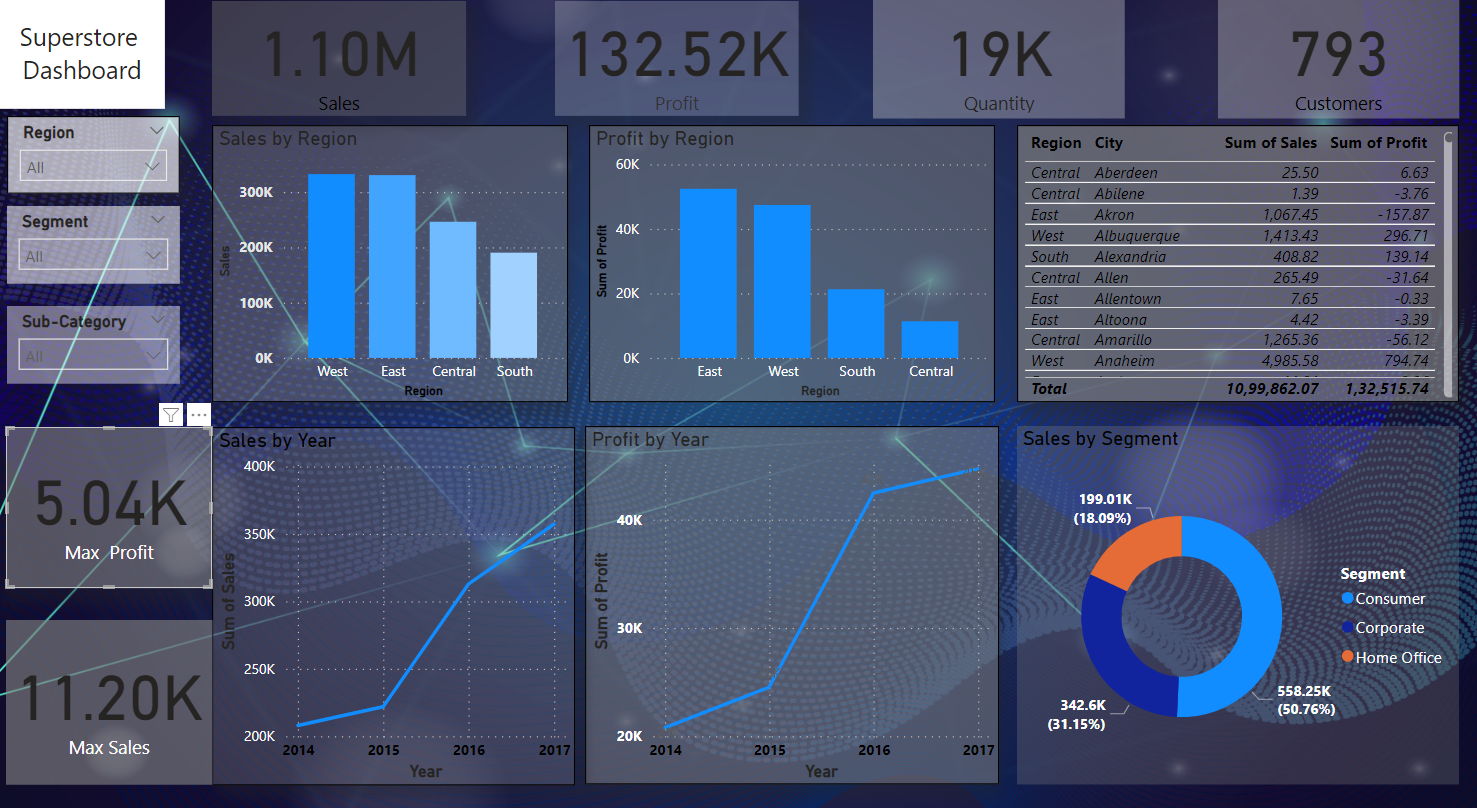

What the dashboard file says about the page in this screenshot:
{"tool":"powerbi","page":{"name":"Page 1","canvas":[1280,720],"ordinal":0},"visuals":[{"type":"clusteredColumnChart","title":"Sales by Region","fields":{"Category":["Sample - Superstore.Region"],"Y":["Sum(Sample - Superstore.Sales)"]},"box":[183.6,112.9,306.9,238.8],"z":0},{"type":"card","fields":{"Values":["Sum(Sample - Superstore.Sales)"]},"box":[183.6,6,218.9,99.1],"z":1000},{"type":"card","fields":{"Values":["Sum(Sample - Superstore.Profit)"]},"box":[479.2,6,210.3,99.1],"z":2000},{"type":"textbox","box":[0,0,143.1,99.1],"z":3000},{"type":"slicer","fields":{"Values":["Sample - Superstore.Region"]},"box":[6.9,105.2,149.1,67.2],"z":4000},{"type":"slicer","fields":{"Values":["Sample - Superstore.Segment"]},"box":[6.9,182.7,149.1,67.2],"z":5000},{"type":"slicer","fields":{"Values":["Sample - Superstore.Sub-Category"]},"box":[6.9,268.9,149.1,67.2],"z":6000},{"type":"lineChart","title":"Profit by Year","fields":{"Y":["Sum(Sample - Superstore.Profit)"],"Category":["Sample - Superstore.Order Date.Variation.Date Hierarchy.Year","Sample - Superstore.Order Date.Variation.Date Hierarchy.Quarter","Sample - Superstore.Order Date.Variation.Date Hierarchy.Month","Sample - Superstore.Order Date.Variation.Date Hierarchy.Day"]},"box":[505.1,372.4,356.8,309.4],"z":7000},{"type":"card","fields":{"Values":["Sum(Sample - Superstore.Quantity)"]},"box":[753.3,4.3,217.2,102.6],"z":8000},{"type":"tableEx","fields":{"Values":["Sample - Superstore.Region","Sample - Superstore.City","Sum(Sample - Superstore.Sales)","Sum(Sample - Superstore.Profit)"]},"box":[877.5,112.9,381,238.8],"z":9000},{"type":"clusteredColumnChart","title":"Profit by Region","fields":{"Category":["Sample - Superstore.Region"],"Y":["Sum(Sample - Superstore.Profit)"]},"box":[508.6,112.9,350,238.8],"z":10000},{"type":"donutChart","title":" Sales by Segment","fields":{"Y":["Sum(Sample - Superstore.Sales)"],"Category":["Sample - Superstore.Segment"]},"box":[877.5,372.4,381,309.4],"z":11000},{"type":"lineChart","title":"Sales by Year","fields":{"Category":["Sample - Superstore.Order Date.Variation.Date Hierarchy.Year","Sample - Superstore.Order Date.Variation.Date Hierarchy.Quarter","Sample - Superstore.Order Date.Variation.Date Hierarchy.Month","Sample - Superstore.Order Date.Variation.Date Hierarchy.Day"],"Y":["Sum(Sample - Superstore.Sales)"]},"box":[183.6,373.2,312.9,308.6],"z":12000},{"type":"card","fields":{"Values":["Count(Sample - Superstore.Customer Name)"]},"box":[1050.7,4.3,207.7,102.6],"z":12001},{"type":"card","fields":{"Values":["Max(Sample - Superstore.Profit)"]},"box":[6,373.2,177.6,138.8],"z":12002},{"type":"card","fields":{"Values":["Max(Sample - Superstore.Sales)"]},"box":[6,539.6,177.6,142.2],"z":12003}]}

Visuals, with their boxes in screenshot pixels (x1, y1, x2, y2), scaled from the page's 1280x720 canvas onto the 1477x808 screenshot:
"Sales by Region" clusteredColumnChart: l=212, t=127, r=566, b=395
card - Sum(Sample - Superstore.Sales): l=212, t=7, r=464, b=118
card - Sum(Sample - Superstore.Profit): l=553, t=7, r=796, b=118
textbox: l=0, t=0, r=165, b=111
slicer - Sample - Superstore.Region: l=8, t=118, r=180, b=193
slicer - Sample - Superstore.Segment: l=8, t=205, r=180, b=280
slicer - Sample - Superstore.Sub-Category: l=8, t=302, r=180, b=377
"Profit by Year" lineChart: l=583, t=418, r=995, b=765
card - Sum(Sample - Superstore.Quantity): l=869, t=5, r=1120, b=120
tableEx - Sample - Superstore.Region x Sample - Superstore.City: l=1013, t=127, r=1452, b=395
"Profit by Region" clusteredColumnChart: l=587, t=127, r=991, b=395
" Sales by Segment" donutChart: l=1013, t=418, r=1452, b=765
"Sales by Year" lineChart: l=212, t=419, r=573, b=765
card - Count(Sample - Superstore.Customer Name): l=1212, t=5, r=1452, b=120
card - Max(Sample - Superstore.Profit): l=7, t=419, r=212, b=575
card - Max(Sample - Superstore.Sales): l=7, t=606, r=212, b=765
